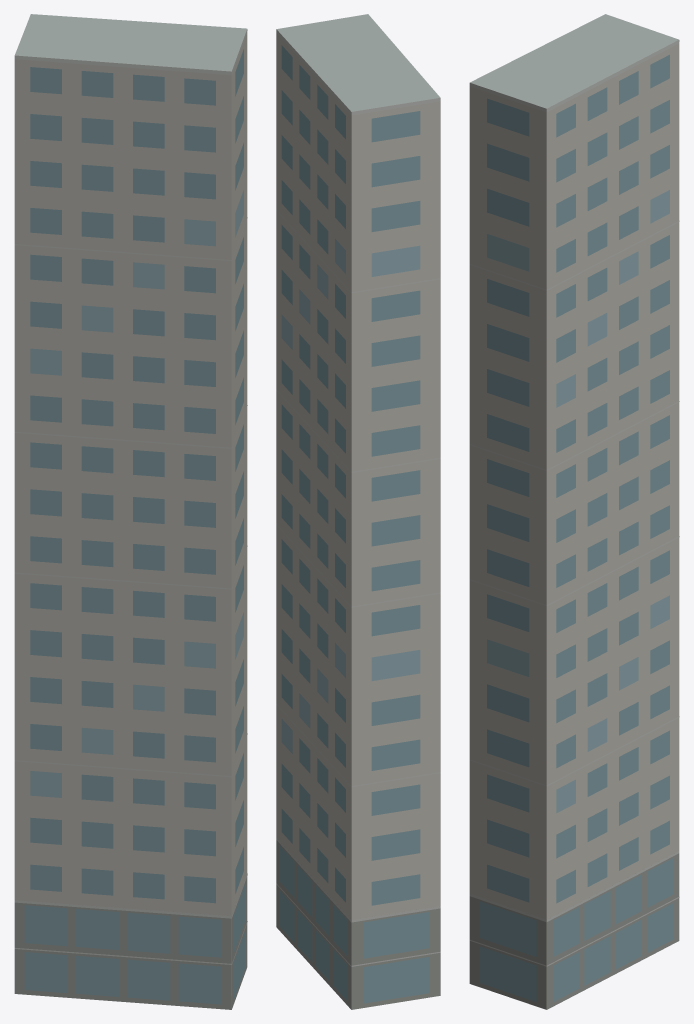
Rendered from survey-upis-32751139.glb.
The picture shows the model from 3 angles, left to right: view 1: azimuth 30°, elevation 25°; view 2: azimuth 150°, elevation 25°; view 3: azimuth 270°, elevation 25°; orthographic projection. The views are drawn at different scales.
Visible parts, largest first — view 1: survey-upis-32751139.tmp; view 2: survey-upis-32751139.tmp; view 3: survey-upis-32751139.tmp.
Part boxes in pixels (<box>): survey-upis-32751139.tmp: <box>14,14,247,1009</box>; survey-upis-32751139.tmp: <box>276,14,440,1009</box>; survey-upis-32751139.tmp: <box>469,14,679,1009</box>.
Bounding box in the file's own units: 13.77 × 61 × 12.88.
